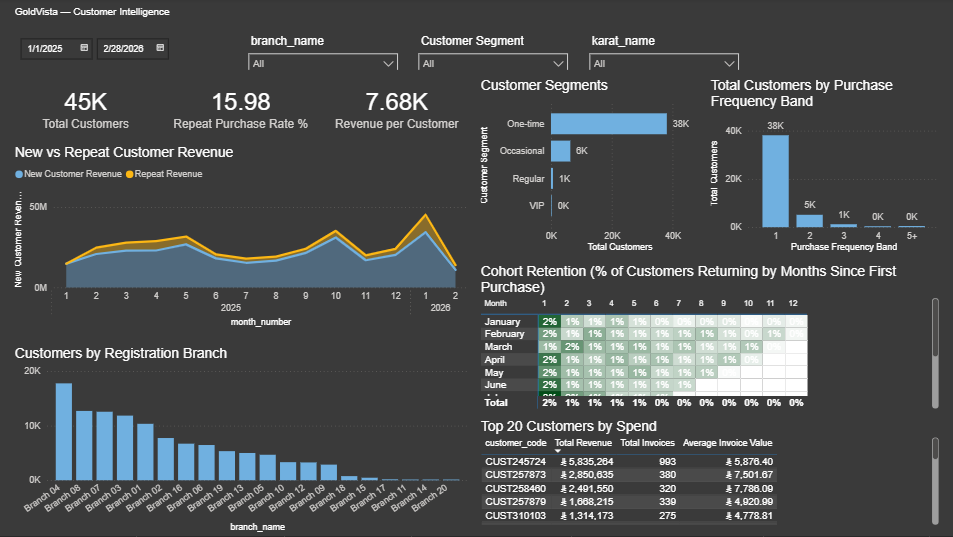

What the dashboard file says about the page in this screenshot:
{"tool":"powerbi","page":{"name":"Customer Intelligence","canvas":[1280,720],"ordinal":3},"visuals":[{"type":"card","fields":{"Values":["_Measures.Total Customers"]},"box":[16,106,200,80],"z":0},{"type":"card","fields":{"Values":["_Measures.Repeat Purchase Rate %"]},"box":[224,106,200,80],"z":1000},{"type":"card","fields":{"Values":["_Measures.Revenue per Customer"]},"box":[432,106,200,80],"z":2000},{"type":"clusteredBarChart","title":"Customer Segments","fields":{"Category":["public dim_customer.Customer Segment"],"Y":["_Measures.Total Customers"]},"box":[640,106,300,240],"z":3000},{"type":"clusteredColumnChart","fields":{"Category":["public dim_customer.Purchase Frequency Band"],"Y":["_Measures.Total Customers"]},"box":[948,106,316,240],"z":4000},{"type":"stackedAreaChart","title":"New vs Repeat Customer Revenue","fields":{"Category":["public dim_date.year","public dim_date.month_number"],"Y":["_Measures.New Customer Revenue","_Measures.Repeat Revenue"]},"box":[16,196,616,250],"z":5000},{"type":"pivotTable","title":"Cohort Retention (% of Customers Returning by Months Since First Purchase)","fields":{"Columns":["public fact_sales.Months Since First Purchase"],"Rows":["public dim_customer.Cohort Month.Variation.Date Hierarchy.Month"],"Values":["_Measures.Cohort Retention %"]},"box":[640,354.4,623.2,199.9],"z":6000},{"type":"tableEx","title":"Top 20 Customers by Spend","fields":{"Values":["public dim_customer.customer_code","_Measures.Total Revenue","_Measures.Total Invoices","_Measures.Average Invoice Value"]},"box":[640,562.7,623.2,147.8],"z":7000},{"type":"clusteredColumnChart","title":"Customers by Registration Branch","fields":{"Category":["public dim_branch.branch_name"],"Y":["_Measures.Customers by Registration Branch"]},"box":[16,464,616,256],"z":8000},{"type":"slicer","fields":{"Values":["public dim_date.date_key"]},"box":[16,44,300,52],"z":9000},{"type":"slicer","fields":{"Values":["public dim_branch.branch_name"]},"box":[324,44,220,52],"z":10000},{"type":"slicer","fields":{"Values":["public dim_customer.Customer Segment"]},"box":[552,44,220,52],"z":11000},{"type":"slicer","fields":{"Values":["public dim_karat.karat_name"]},"box":[780,44,220,52],"z":12000},{"type":"textbox","box":[16,6,600,32],"z":13000}]}

Visuals, with their boxes in screenshot pixels (x1, y1, x2, y2), scaled from the page's 1280x720 canvas onto the 953x537 screenshot:
card - _Measures.Total Customers: [left=12, top=79, right=161, bottom=139]
card - _Measures.Repeat Purchase Rate %: [left=167, top=79, right=316, bottom=139]
card - _Measures.Revenue per Customer: [left=322, top=79, right=471, bottom=139]
"Customer Segments" clusteredBarChart: [left=476, top=79, right=700, bottom=258]
clusteredColumnChart - public dim_customer.Purchase Frequency Band x _Measures.Total Customers: [left=706, top=79, right=941, bottom=258]
"New vs Repeat Customer Revenue" stackedAreaChart: [left=12, top=146, right=471, bottom=333]
"Cohort Retention (% of Customers Returning by Months Since First Purchase)" pivotTable: [left=476, top=264, right=940, bottom=413]
"Top 20 Customers by Spend" tableEx: [left=476, top=420, right=940, bottom=530]
"Customers by Registration Branch" clusteredColumnChart: [left=12, top=346, right=471, bottom=536]
slicer - public dim_date.date_key: [left=12, top=33, right=235, bottom=72]
slicer - public dim_branch.branch_name: [left=241, top=33, right=405, bottom=72]
slicer - public dim_customer.Customer Segment: [left=411, top=33, right=575, bottom=72]
slicer - public dim_karat.karat_name: [left=581, top=33, right=745, bottom=72]
textbox: [left=12, top=4, right=459, bottom=28]
